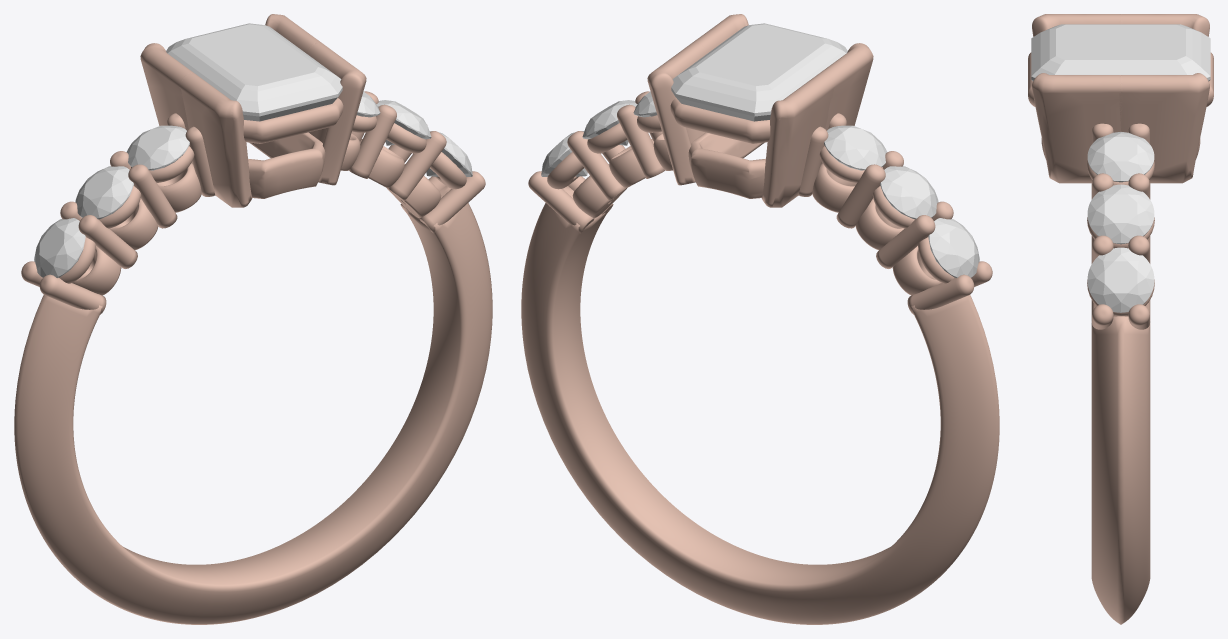
File: diamond-emerald-rosegold-halfmoonbezel-knifeedge-7stone.glb
3 views of the same model, side by side, from view 1: azimuth 30°, elevation 25°; view 2: azimuth 150°, elevation 25°; view 3: azimuth 270°, elevation 25° (orthographic).
Parts seen in each view (by area): view 1: metal.003, stone.002, side.012, side.013, side.014, side.016, side.017; view 2: metal.003, stone.002, side.012, side.013, side.014, side.016, side.017; view 3: metal.003, stone.002, side.017, side.016, side.015.
Part boxes in pixels (bbox=[...]): metal.003: bbox=[14, 14, 492, 624]; stone.002: bbox=[166, 23, 342, 121]; side.012: bbox=[34, 218, 85, 277]; side.013: bbox=[75, 166, 133, 219]; side.014: bbox=[126, 125, 189, 170]; side.016: bbox=[376, 100, 431, 145]; side.017: bbox=[426, 131, 472, 176]; metal.003: bbox=[521, 14, 999, 624]; stone.002: bbox=[671, 23, 847, 121]; side.012: bbox=[928, 218, 979, 277]; side.013: bbox=[880, 166, 938, 219]; side.014: bbox=[824, 125, 887, 170]; side.016: bbox=[582, 100, 637, 145]; side.017: bbox=[541, 131, 587, 176]; metal.003: bbox=[1028, 14, 1213, 624]; stone.002: bbox=[1031, 24, 1210, 81]; side.017: bbox=[1087, 247, 1154, 312]; side.016: bbox=[1087, 184, 1154, 244]; side.015: bbox=[1087, 132, 1154, 182].
Bounding box in the file's own units: 20.4 × 22.94 × 6.94.
